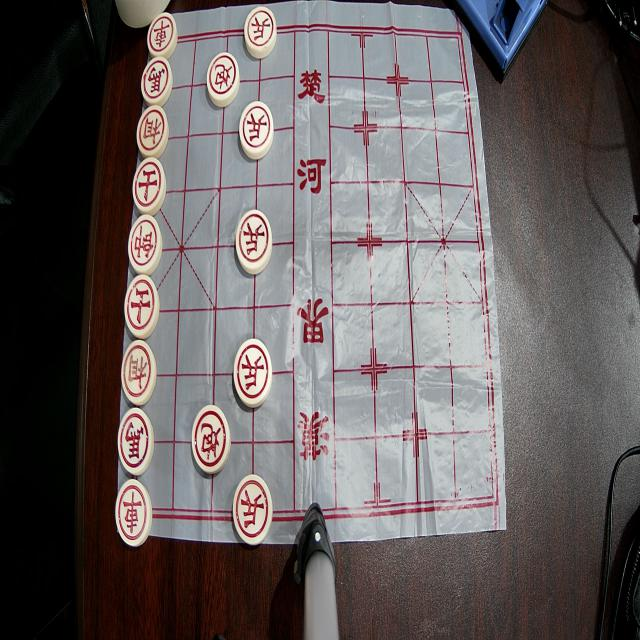red-advisor: (124, 274, 160, 339), (132, 158, 166, 215)
red-cannon: (192, 405, 230, 474), (207, 52, 240, 107)
red-chariot: (116, 479, 152, 547), (148, 13, 178, 55)
red-elephant: (122, 340, 156, 405), (137, 105, 169, 157)
red-general: (128, 214, 162, 274)
red-horse: (118, 408, 154, 476), (141, 56, 173, 105)
red-soldier: (233, 474, 273, 546), (234, 338, 272, 408), (235, 210, 272, 274), (239, 101, 274, 159), (244, 6, 276, 58)
